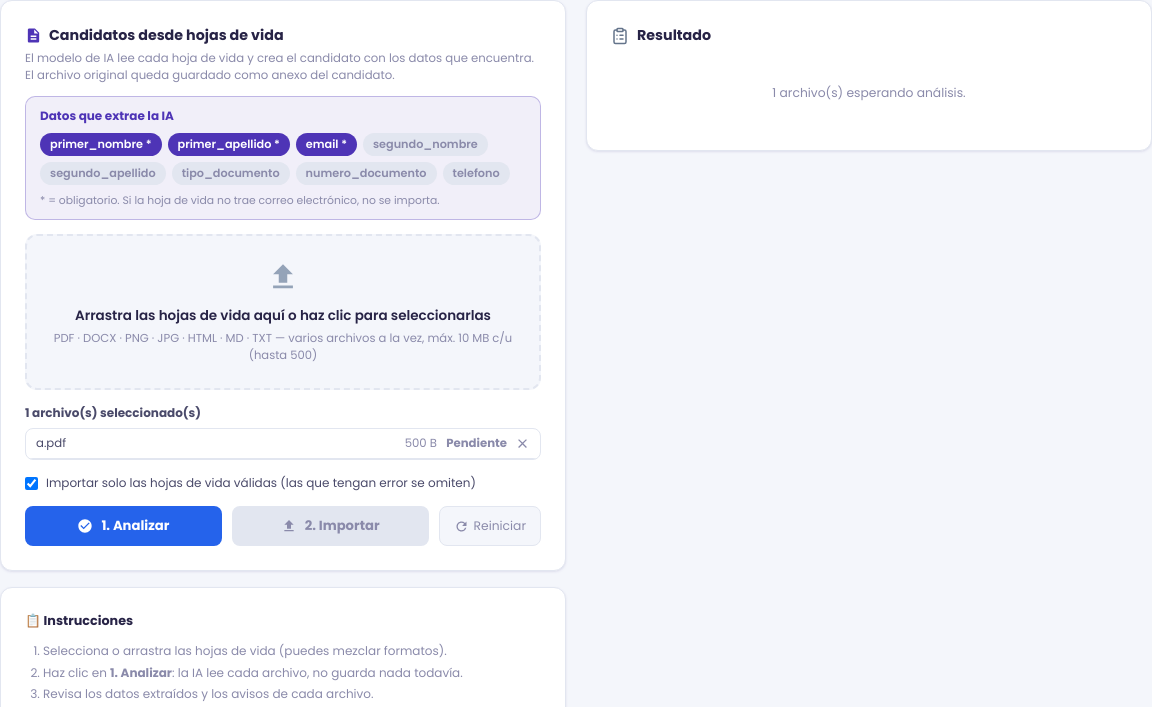
Test: ImportacionCV › muestra el error cuando el servidor corta todo (503)
Earlier steps of the test are not shown.
Click the button "1. Analizar".
click(123, 526)  # box [25,506,222,546]
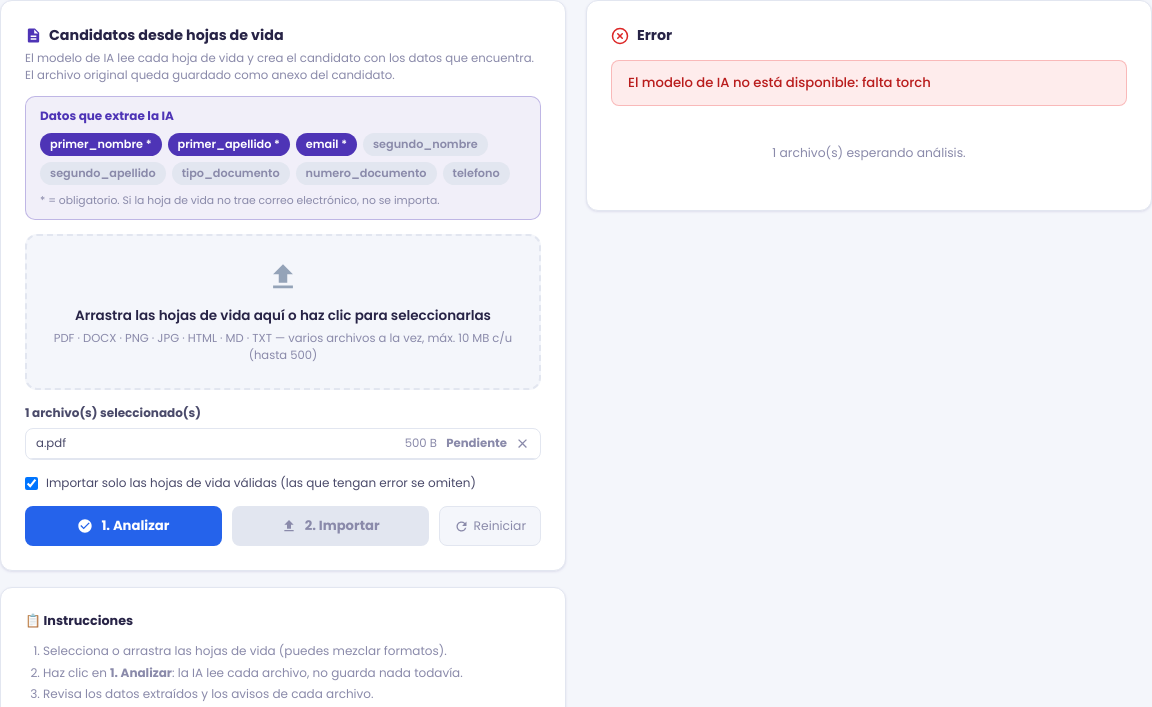
Result: the text "El modelo de IA no está disponible: falta torch" is shown at [628,73,931,93]
